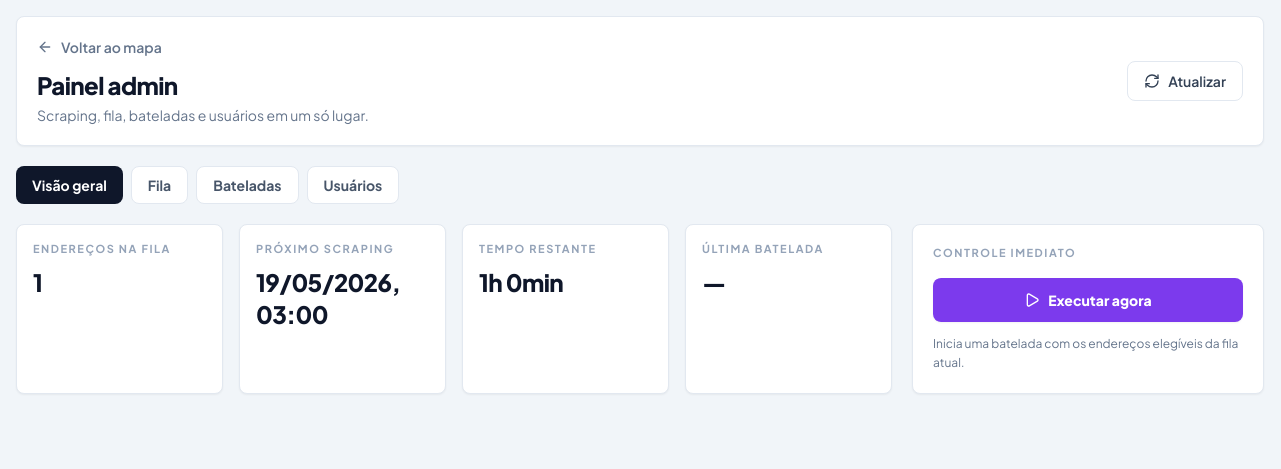
Scenario: ScrapingAdminPage › mostra status e quantidade de imÃƒÂ³veis por plataforma em cada endereÃƒÂ§o da batelada
The width and height of the screenshot is (1281, 469).
Click the button "Bateladas" at (247, 185), box [196,166,298,204]
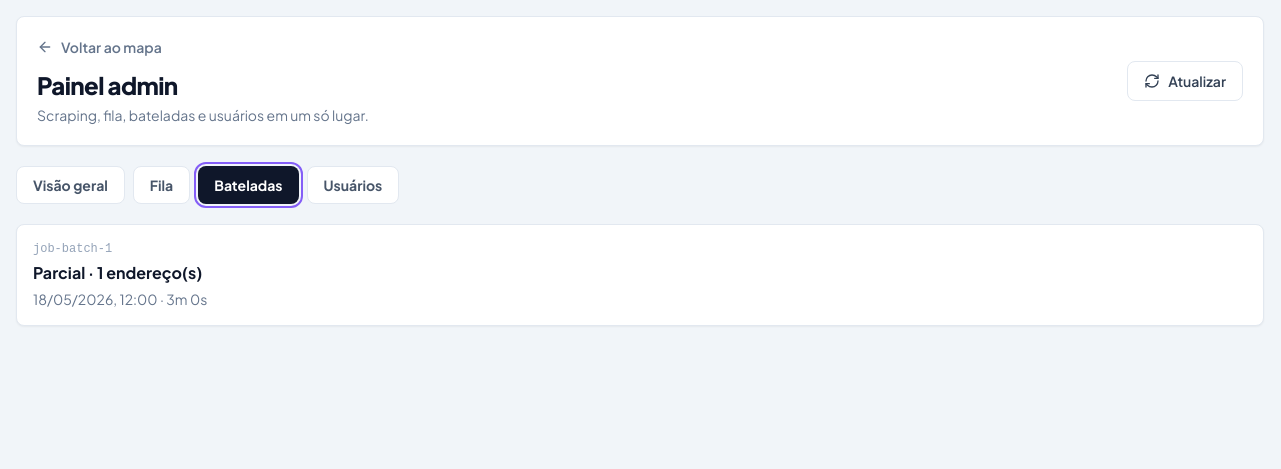
Click the button "job-batch-1" at (120, 275), box [33,241,207,309]
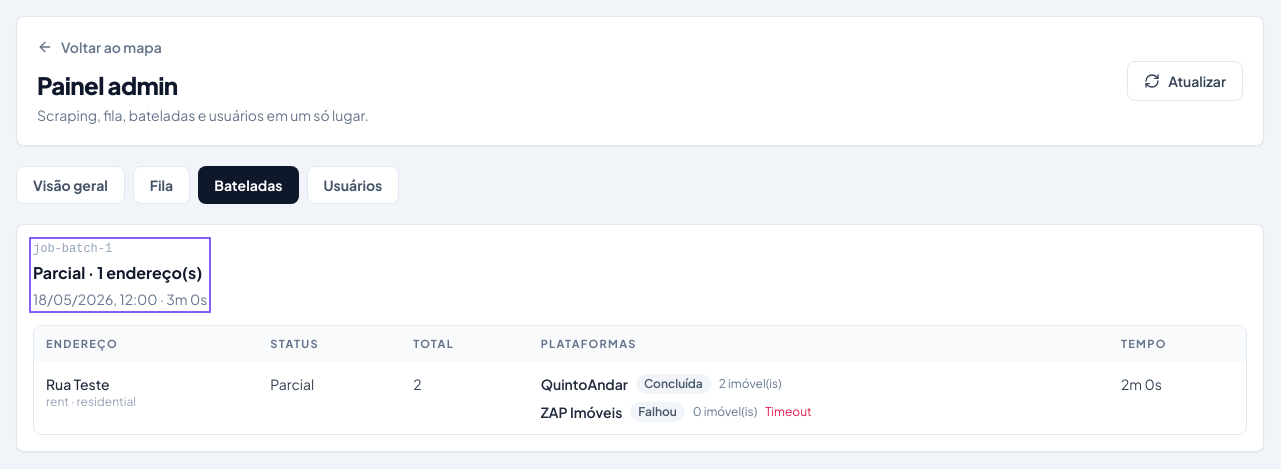
Check: the text "Rua Teste" is shown, box [46,375,110,393]
Check: the text "QuintoAndar" is shown, box [541,374,628,394]
Check: the text "ZAP Imóveis" is shown, box [541,402,622,422]
